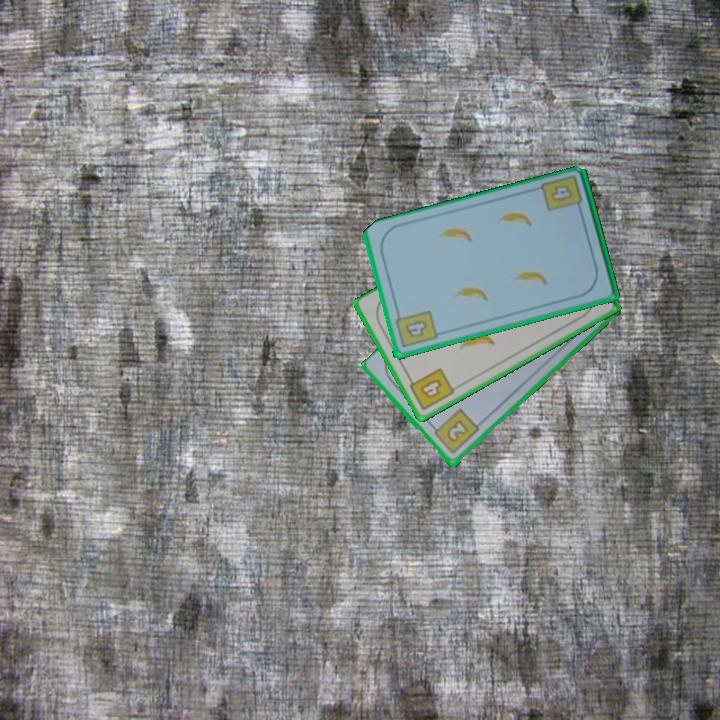2b: (428, 406, 482, 457)
4b: (404, 365, 457, 414), (392, 307, 440, 351), (538, 172, 586, 216)
